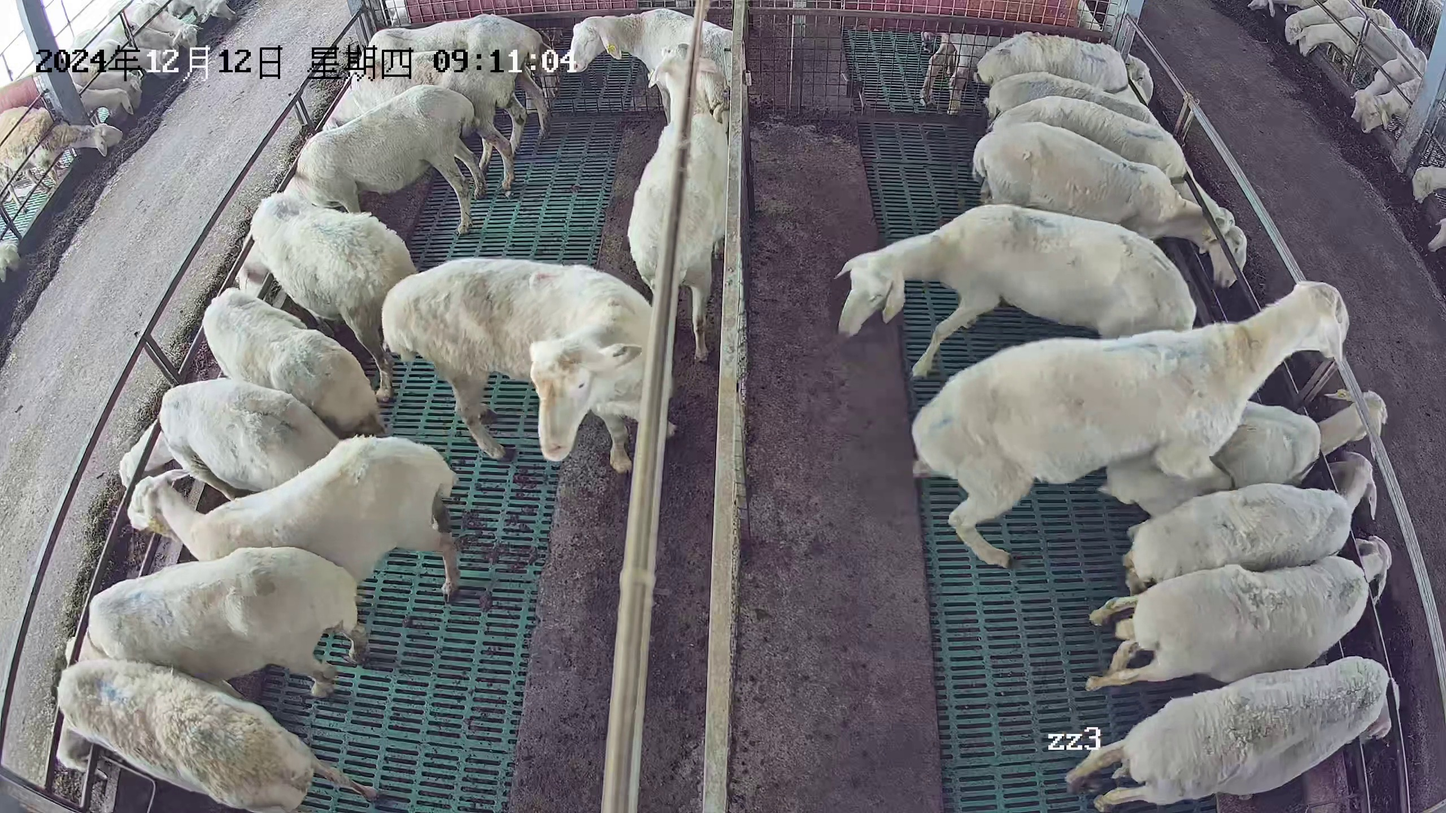Smounting: (908, 278, 1391, 567)
mounted: (1096, 385, 1388, 518)
